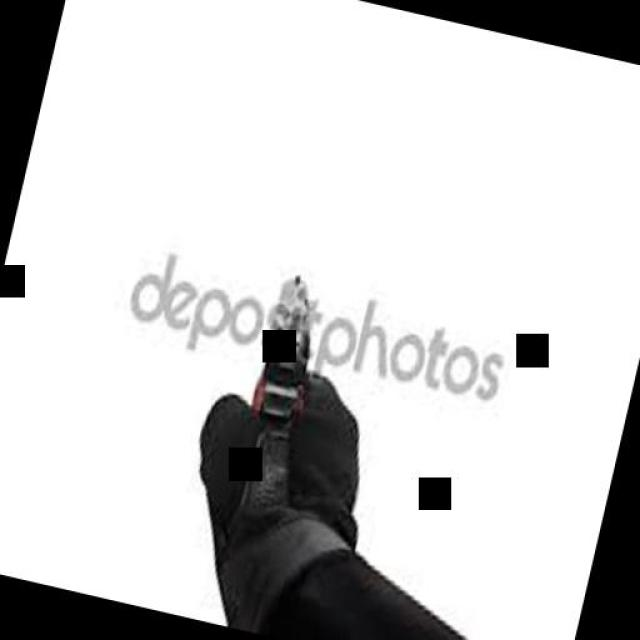gun: (245, 274, 334, 436)
